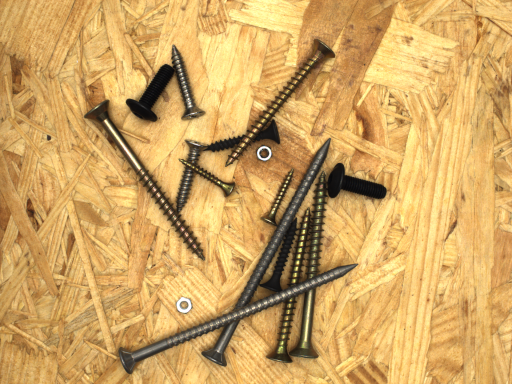screw_long: (187, 118, 355, 381), (105, 238, 378, 384)
